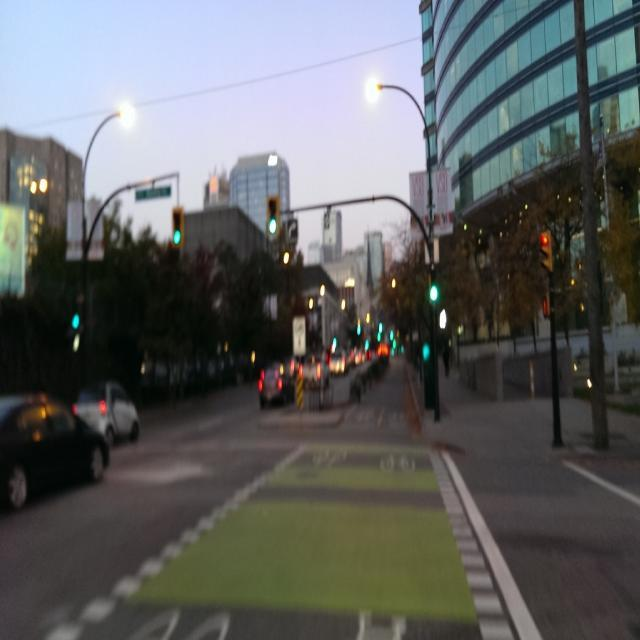traffic light: (266, 194, 280, 235), (171, 210, 184, 249)
